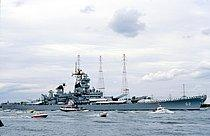MIL_Ship: (0, 56, 207, 111)
